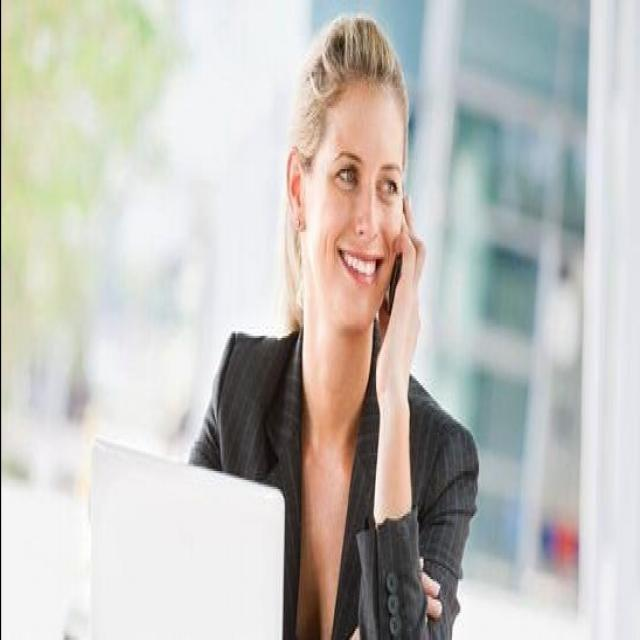phone: (362, 142, 427, 392)
